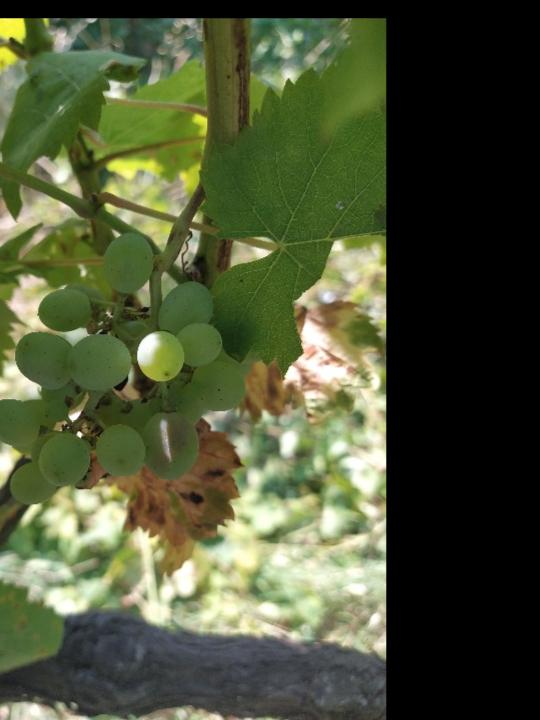grape: (0, 230, 256, 505)
